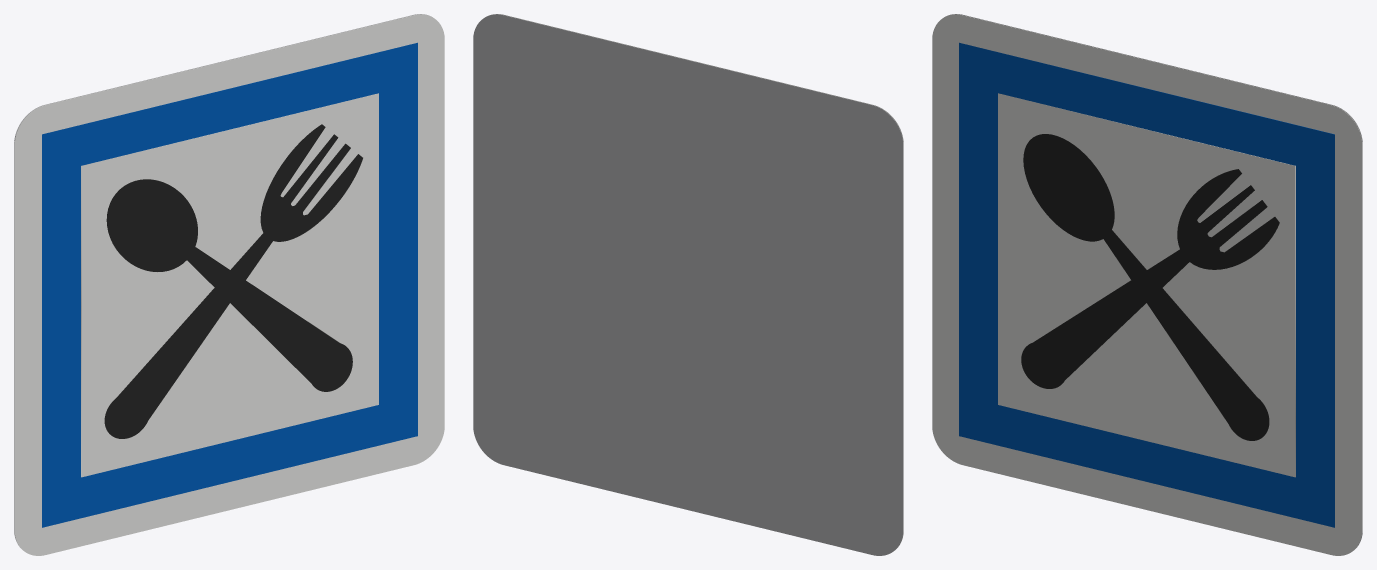
3 views of the same model, side by side, from view 1: azimuth 30°, elevation 25°; view 2: azimuth 150°, elevation 25°; view 3: azimuth 330°, elevation 25° (orthographic).
Visible parts, largest first — view 1: CE16_p02, CE16_p01, CE16_p00, CE16_p03, CE16_dos; view 2: CE16_dos, CE16_p00; view 3: CE16_p02, CE16_p01, CE16_p00, CE16_p03, CE16_dos.
Boxes of the visible parts, box(x1,y1,x2,y2) form: CE16_p02: box(81, 93, 378, 477); CE16_p01: box(42, 42, 417, 527); CE16_p00: box(14, 14, 444, 555); CE16_p03: box(104, 124, 362, 438); CE16_dos: box(14, 14, 431, 547); CE16_dos: box(473, 14, 903, 555); CE16_p00: box(486, 14, 903, 547); CE16_p02: box(998, 93, 1295, 477); CE16_p01: box(959, 42, 1334, 527); CE16_p00: box(932, 14, 1362, 555); CE16_p03: box(1021, 134, 1279, 440); CE16_dos: box(945, 14, 1362, 547).
Bounding box in the file's own units: 0.7 × 0.6999 × 0.0031.
